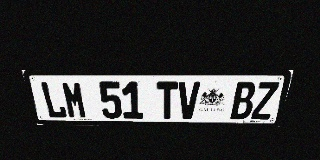1: (120, 82, 143, 119)
5: (99, 82, 123, 119)
B: (230, 82, 257, 119)
L: (39, 81, 68, 118)
M: (61, 82, 88, 118)
T: (157, 82, 178, 119)
V: (178, 82, 200, 119)
Z: (251, 82, 279, 119)
